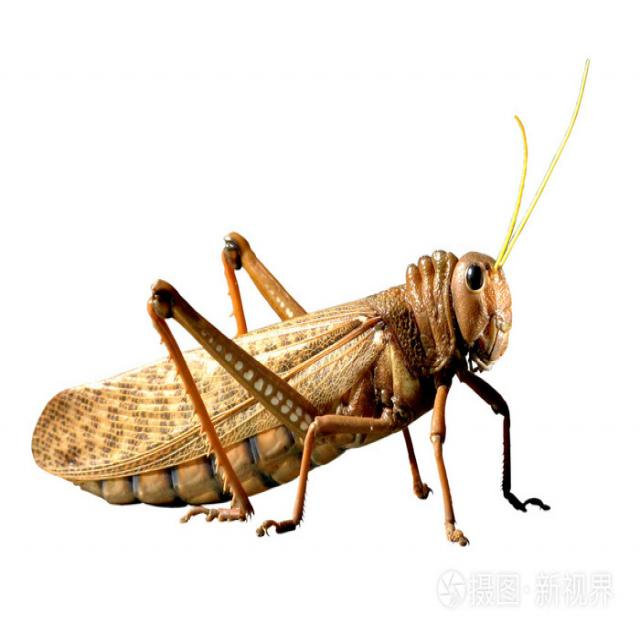ZhaMeng: (32, 54, 598, 554)
